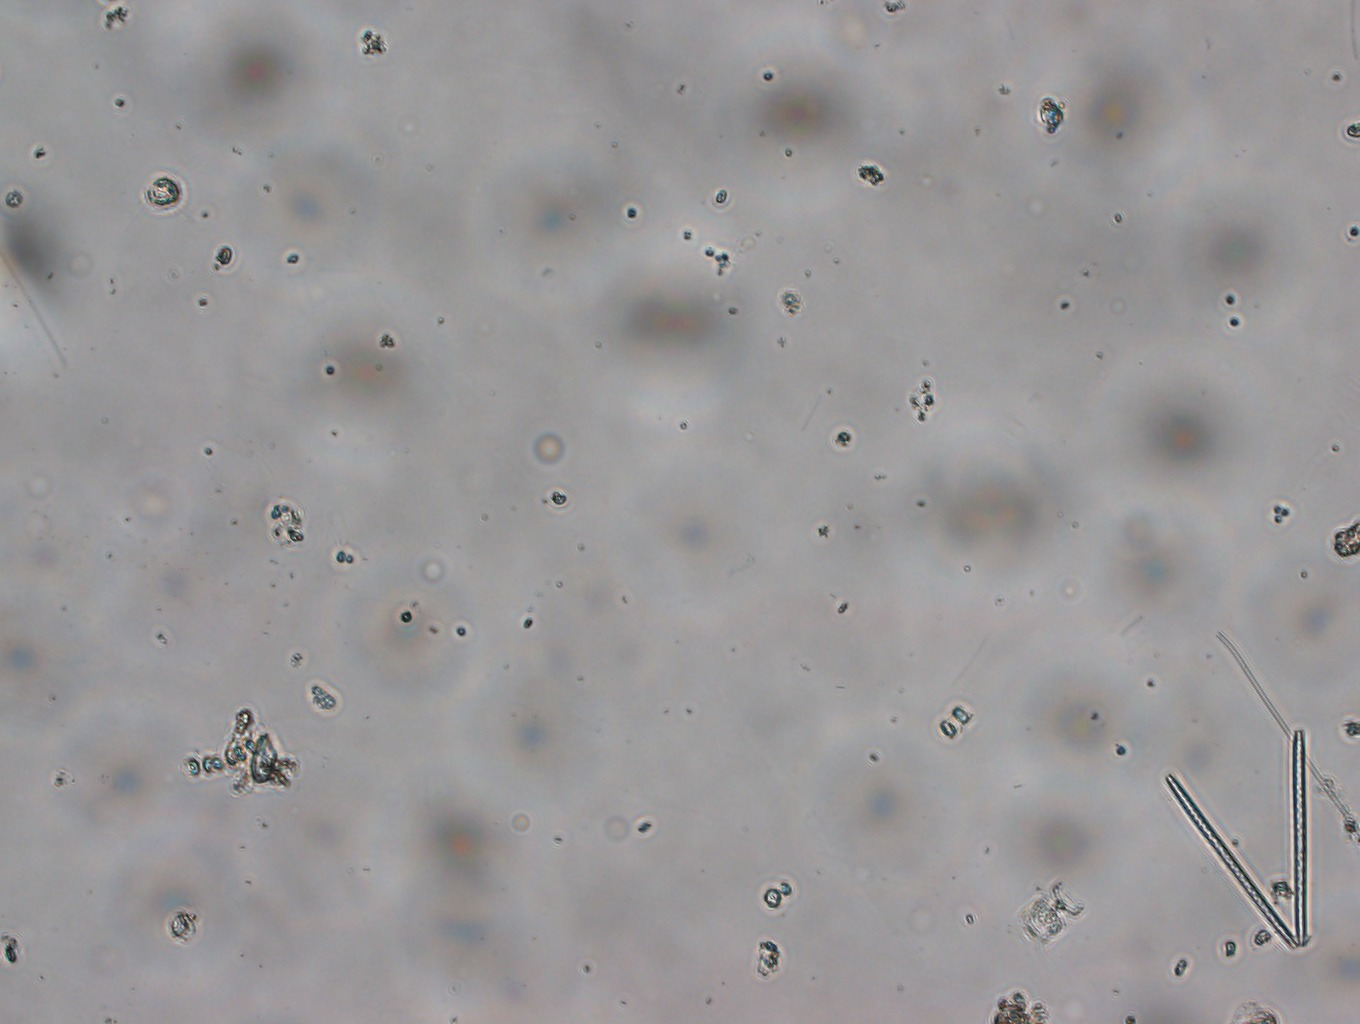thalassionema frauenfeldii: (1156, 713, 1316, 961)
